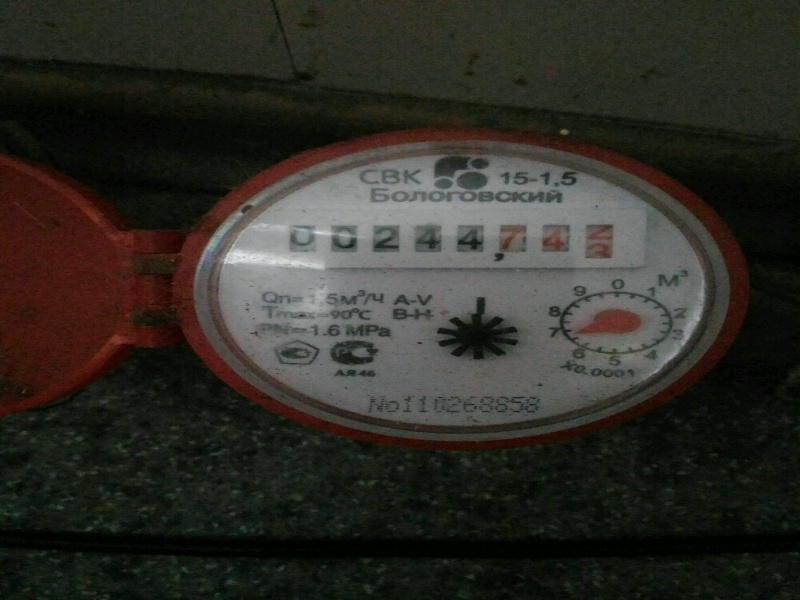meter: (277, 222, 640, 259)
